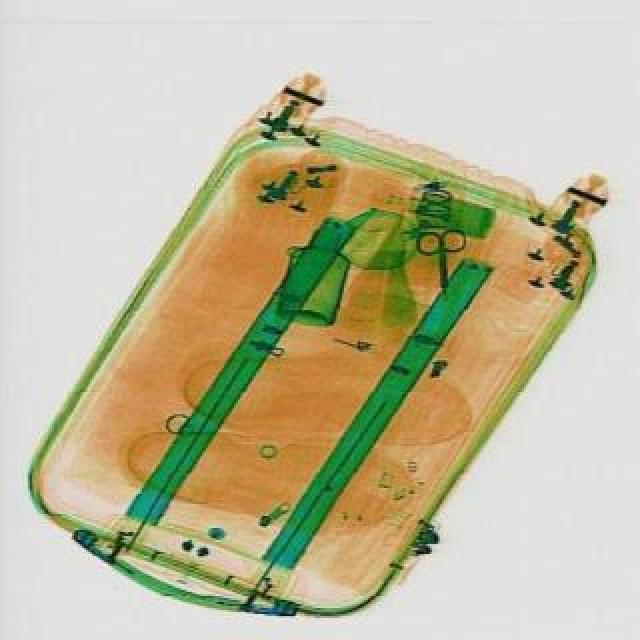pliers: (412, 228, 466, 300)
